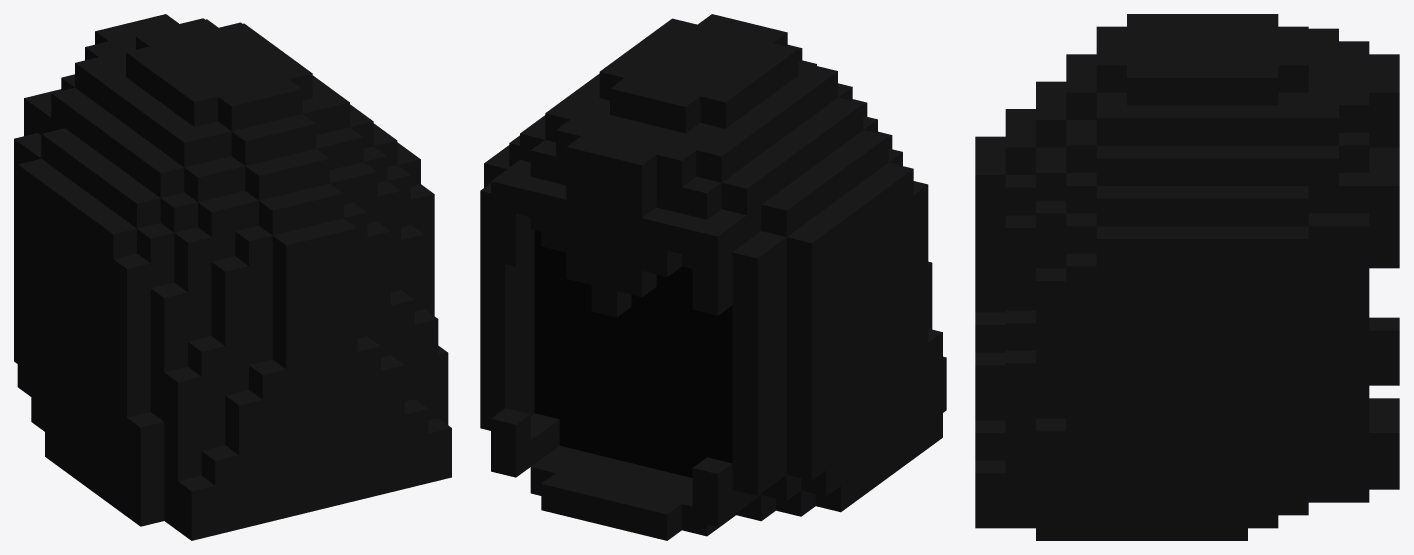
File: UndeadSwordmaster(Head).obj
3 views of the same model, side by side, from view 1: azimuth 30°, elevation 25°; view 2: azimuth 150°, elevation 25°; view 3: azimuth 270°, elevation 25° (orthographic). The views are drawn at different scales.
Bounding box in the file's own units: 1.3 × 1.5 × 1.4.
1 material, 1 textured.
